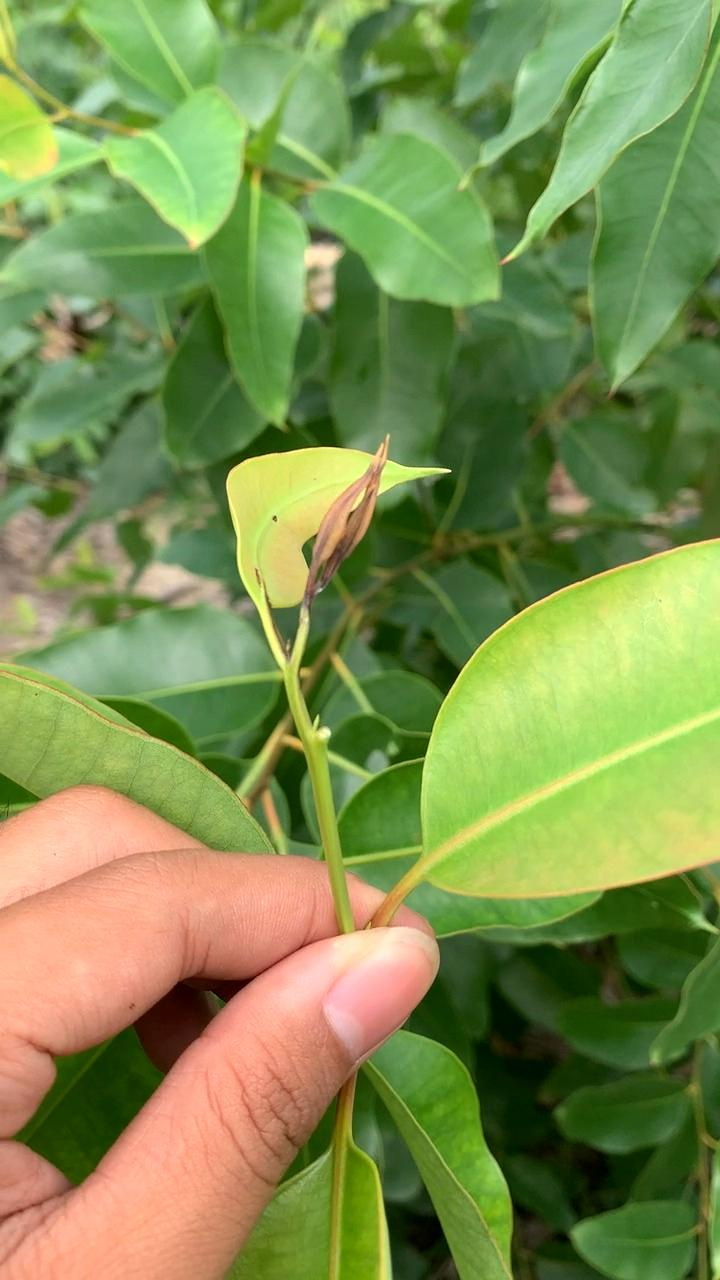Helopeltis-Withered Sprout: (259, 413, 428, 685)
